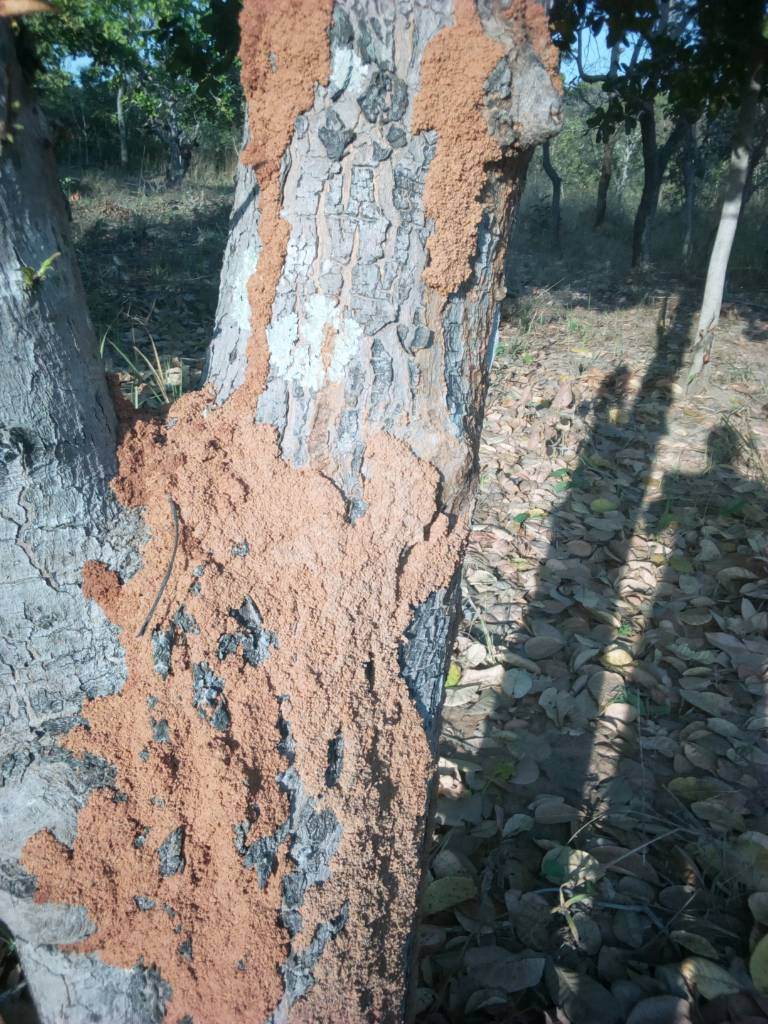Termites: (99, 438, 427, 1024), (224, 1, 333, 410), (424, 3, 505, 300)
